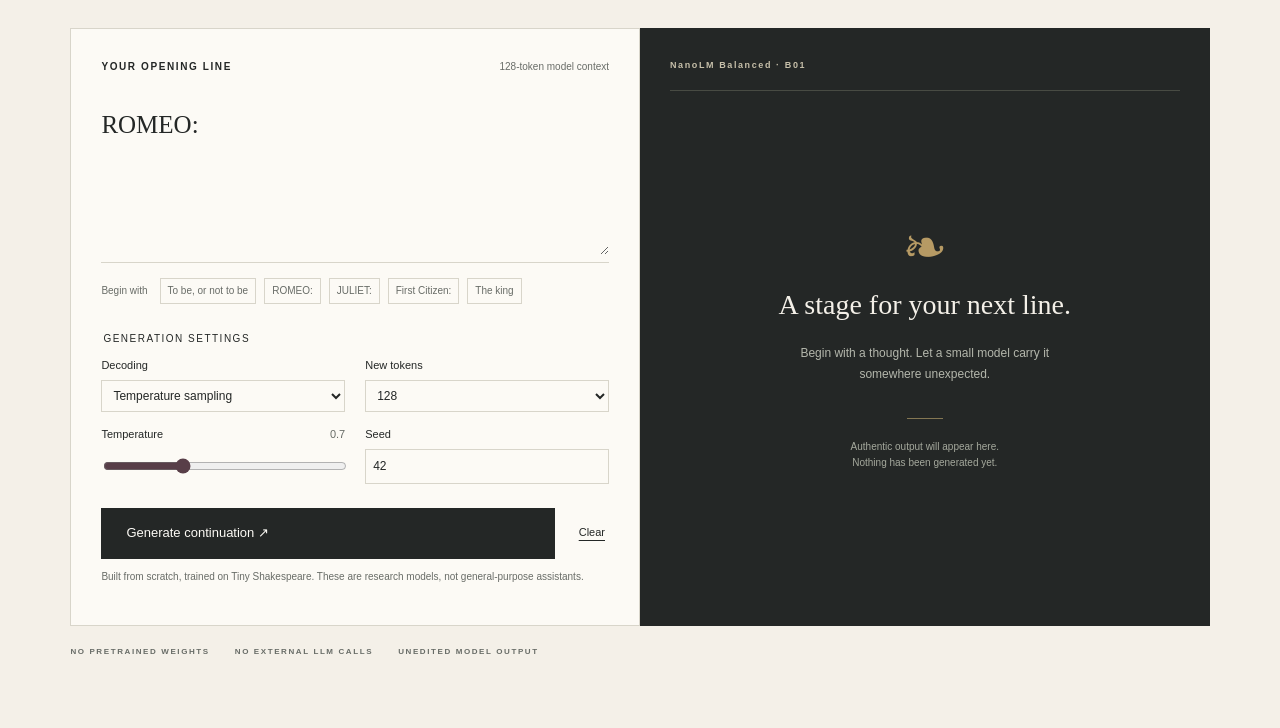
Test: renders real response metadata and copies literal output
(page scrolled)
Click the button "Generate continuation ↗" at point(198, 532), box top-left (101, 508), bottom-right (555, 559)
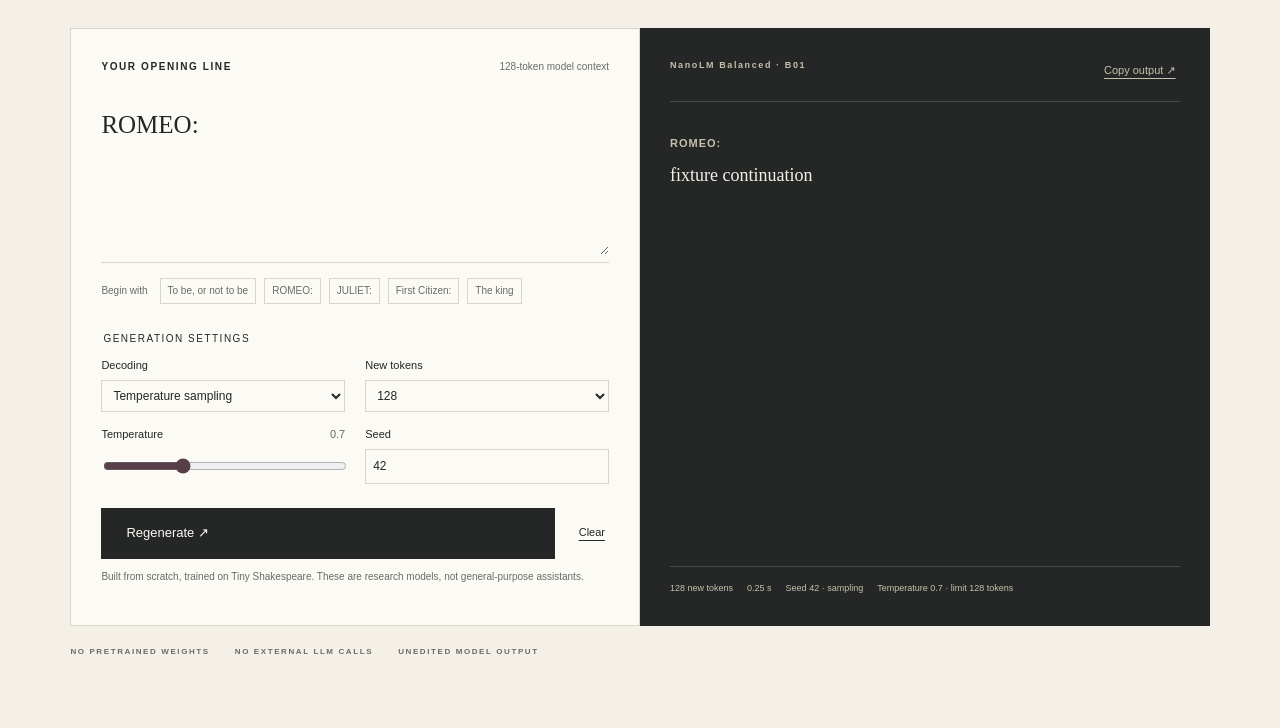
Now the text "128 new tokens" is shown, box top-left (670, 581), bottom-right (733, 596)
Click the button "Copy output ↗" at point(1140, 71), box top-left (1100, 58), bottom-right (1180, 84)
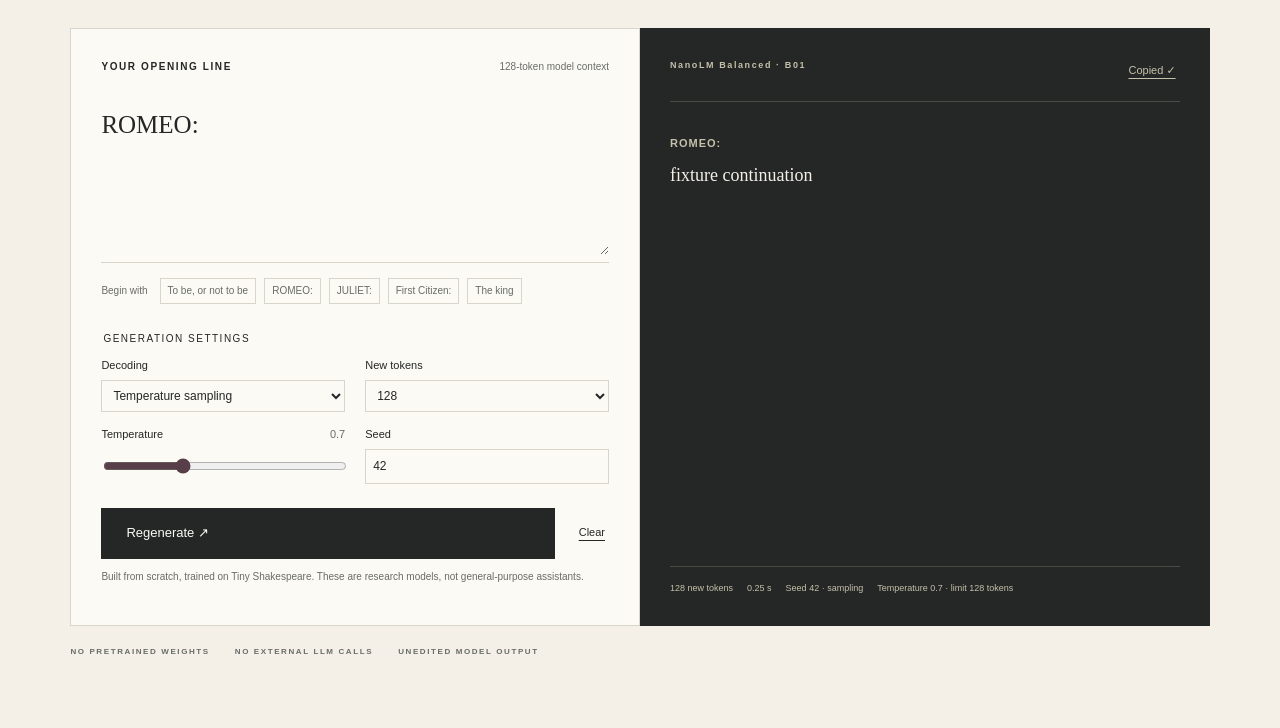
Now the button "Copied ✓" is shown, box top-left (1124, 58), bottom-right (1180, 84)
